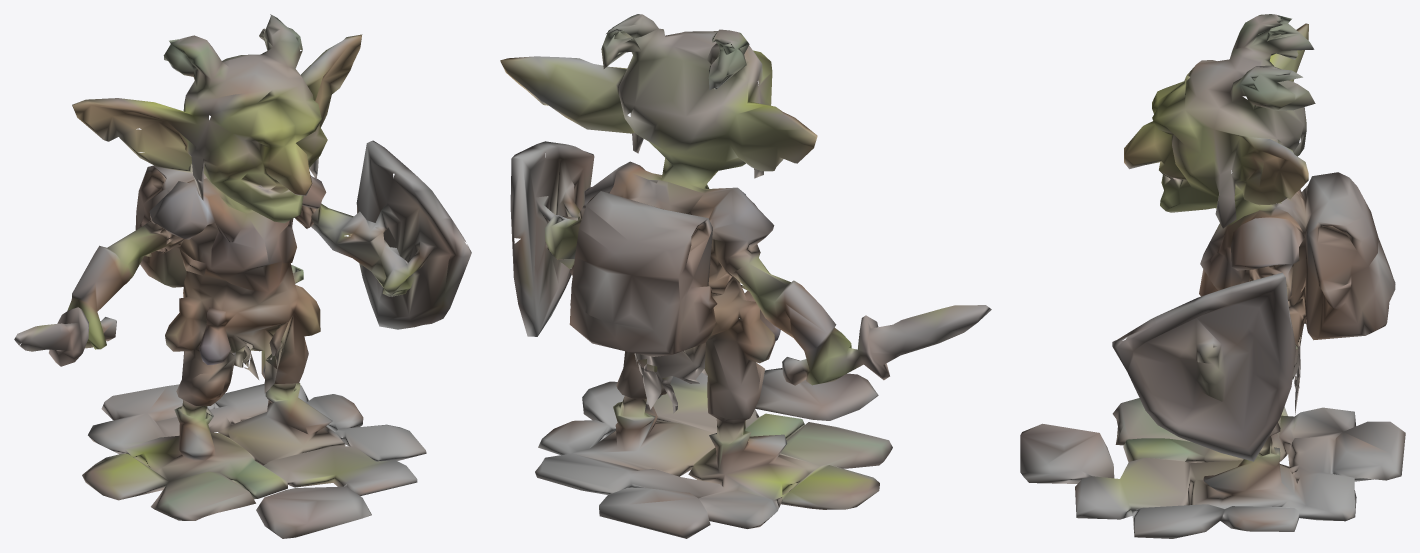
The model's file is goblin.glb.
3 views of the same model, side by side, from view 1: azimuth 30°, elevation 25°; view 2: azimuth 150°, elevation 25°; view 3: azimuth 270°, elevation 25° (orthographic). The views are drawn at different scales.
Bounding box in the file's own units: 0.9932 × 0.9214 × 0.7438.
